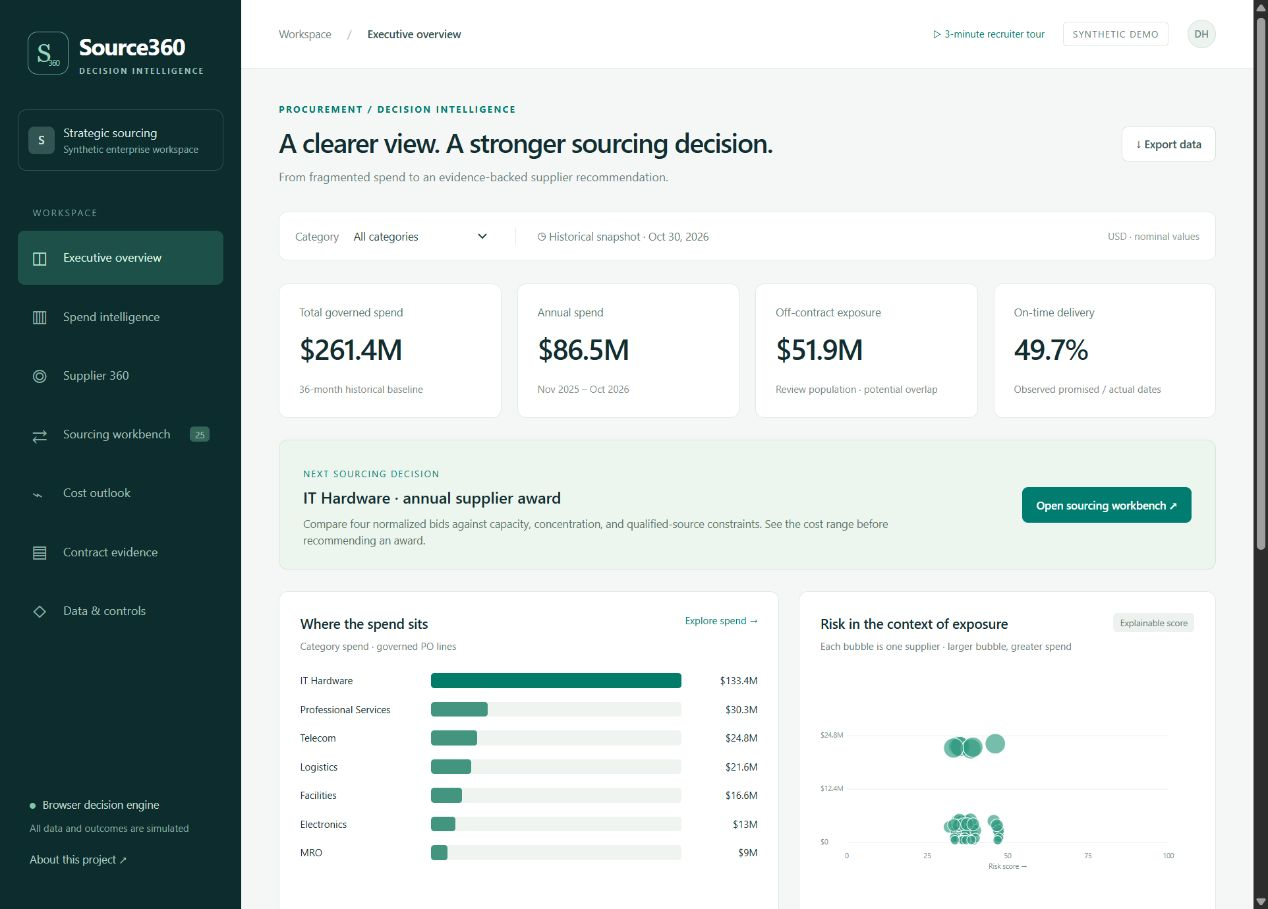

What the dashboard file says about the page in this screenshot:
{"tool":"powerbi","page":{"name":"Executive | synthetic sourcing","canvas":[1280,720],"ordinal":0},"visuals":[{"type":"card","fields":{"Values":["Sum(Executive.TotalSpend)"]},"box":[20,20,290,150],"z":0},{"type":"card","fields":{"Values":["Sum(Executive.AnnualSpend)"]},"box":[330,20,290,150],"z":0},{"type":"card","fields":{"Values":["Sum(Executive.OffContract)"]},"box":[640,20,290,150],"z":0},{"type":"card","fields":{"Values":["Sum(Executive.OnTime)"]},"box":[950,20,290,150],"z":0},{"type":"clusteredBarChart","fields":{"Category":["Categories.Category"],"Y":["Sum(Categories.Spend)"]},"box":[20,190,600,490],"z":0},{"type":"lineChart","fields":{"Category":["Monthly.Month"],"Y":["Sum(Monthly.Spend)"]},"box":[640,190,620,490],"z":0}]}

Visuals, with their boxes on the page's 1280x720 design canvas (x1, y1, x2, y2). These are canvas units, not pixel positions in the 1268x909 screenshot, which may show the page scaled, cropped or inside an application window:
card - Sum(Executive.TotalSpend): bbox(20, 20, 310, 170)
card - Sum(Executive.AnnualSpend): bbox(330, 20, 620, 170)
card - Sum(Executive.OffContract): bbox(640, 20, 930, 170)
card - Sum(Executive.OnTime): bbox(950, 20, 1240, 170)
clusteredBarChart - Categories.Category x Sum(Categories.Spend): bbox(20, 190, 620, 680)
lineChart - Monthly.Month x Sum(Monthly.Spend): bbox(640, 190, 1260, 680)
